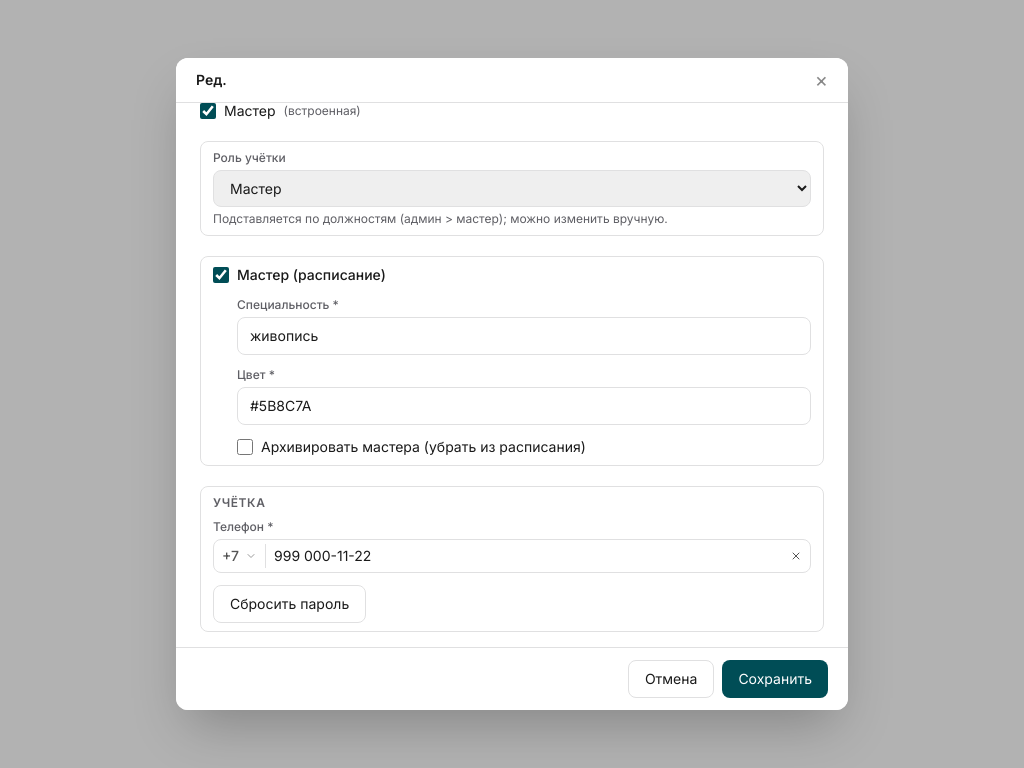
Test: edit: phone save via patchUser (S5) › PHONE_TAKEN rejection renders the inline error and keeps the modal open
(page scrolled)
Replace the text in the field labelled "Телефон *" with "9990009999" at (524, 556), box [266, 540, 782, 572]
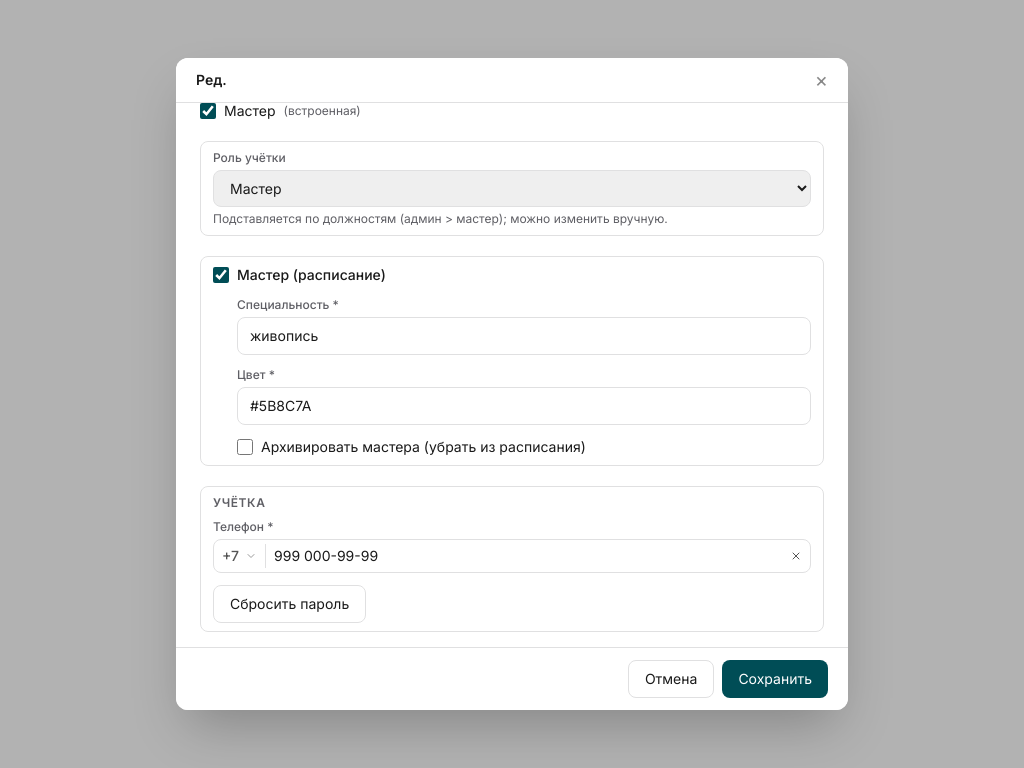
Click the button with test id "staff-modal-save-btn" at (775, 679), box [722, 660, 828, 698]
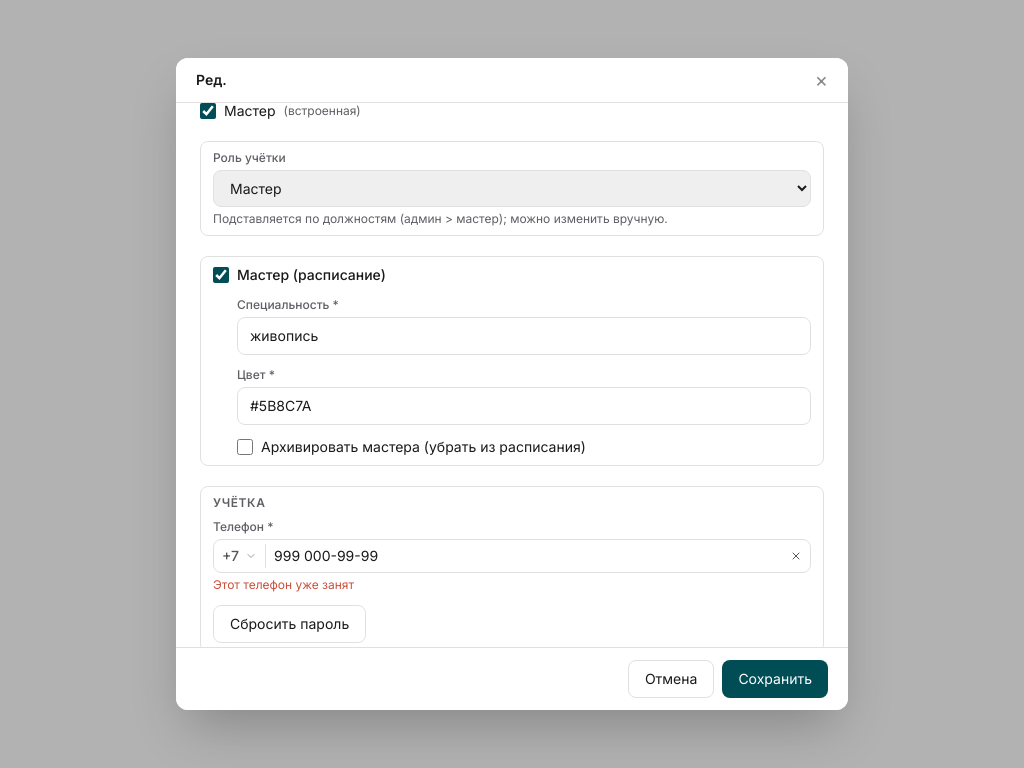
Expected: the text "Этот телефон уже занят" is shown, [213, 577, 354, 592]
